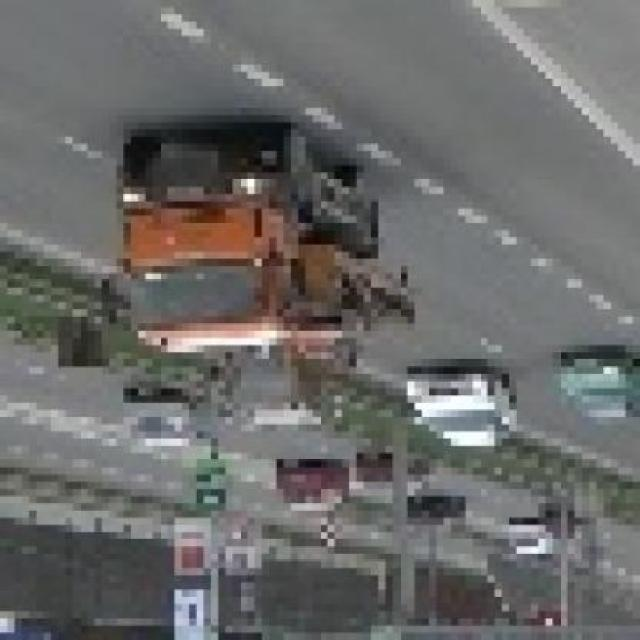truck: (111, 124, 380, 396)
